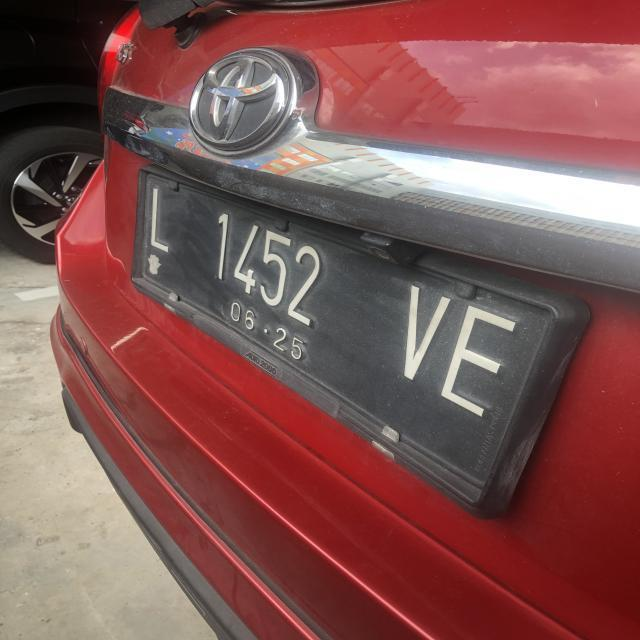1: (210, 207, 238, 284)
2: (286, 240, 330, 328)
4: (232, 222, 262, 294)
5: (260, 228, 288, 310)
E: (442, 305, 515, 419)
L: (144, 185, 178, 252)
V: (394, 282, 452, 376)
